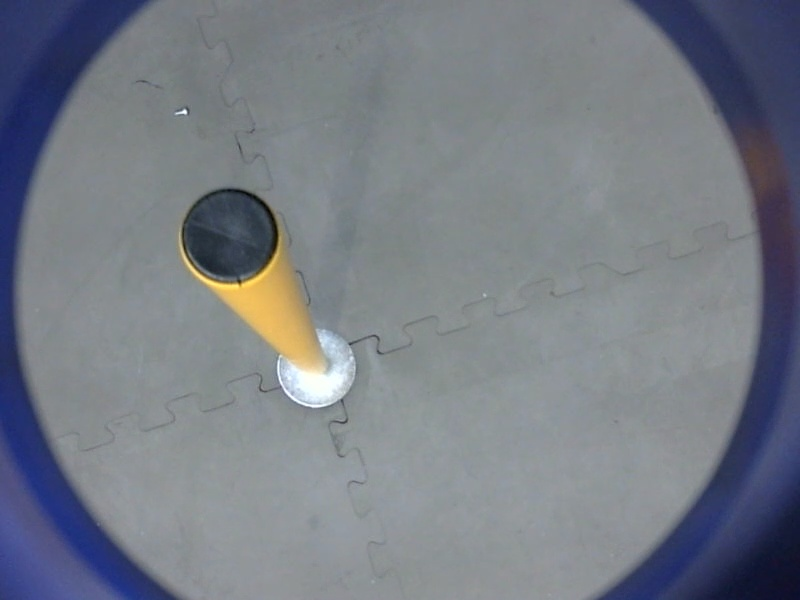tip: (170, 181, 286, 294)
